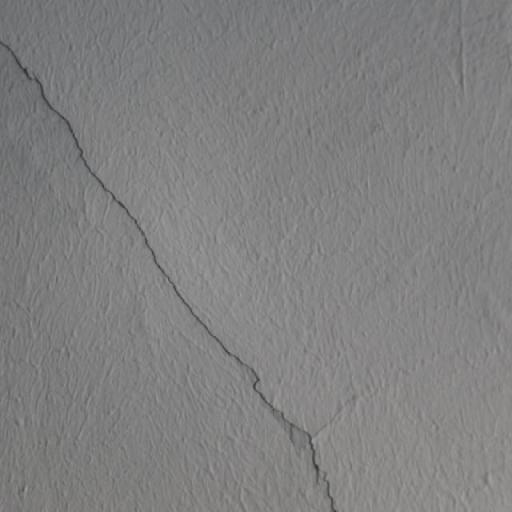moderate crack: (300, 227, 512, 440), (230, 356, 345, 505), (455, 16, 471, 118), (248, 372, 278, 416)
severe crack: (118, 196, 217, 337), (286, 420, 317, 460), (308, 411, 344, 439), (329, 390, 364, 417), (316, 465, 338, 504), (96, 192, 120, 227), (322, 501, 341, 512)
